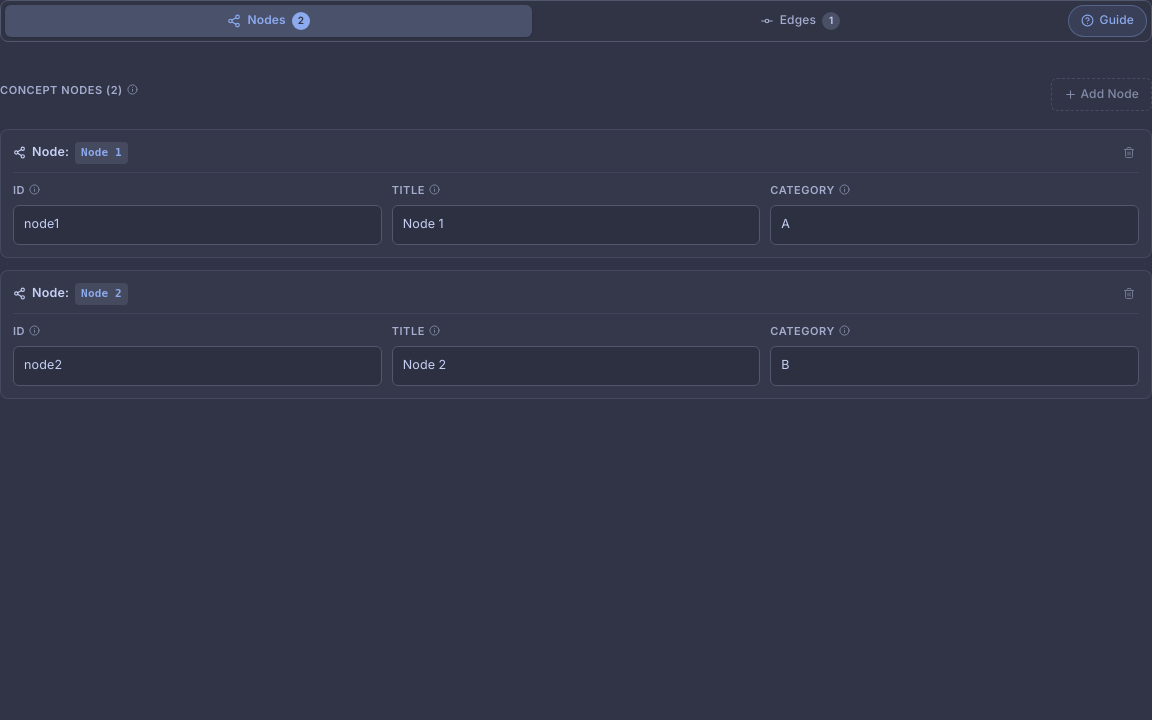
Test: VisualFormEditor › renders concept map form editor for concept-map type
expect the element with test id "concept-map-form-editor" is shown: met, box x1=0 y1=0 x2=1151 y2=398
expect the element with test id "cm-sub-tabs" is shown: met, box x1=0 y1=0 x2=1151 y2=42
Switch to Edges tab
Click the button with test id "cm-tab-edges" at {"x": 800, "y": 21}, box x1=536 y1=5 x2=1064 y2=36
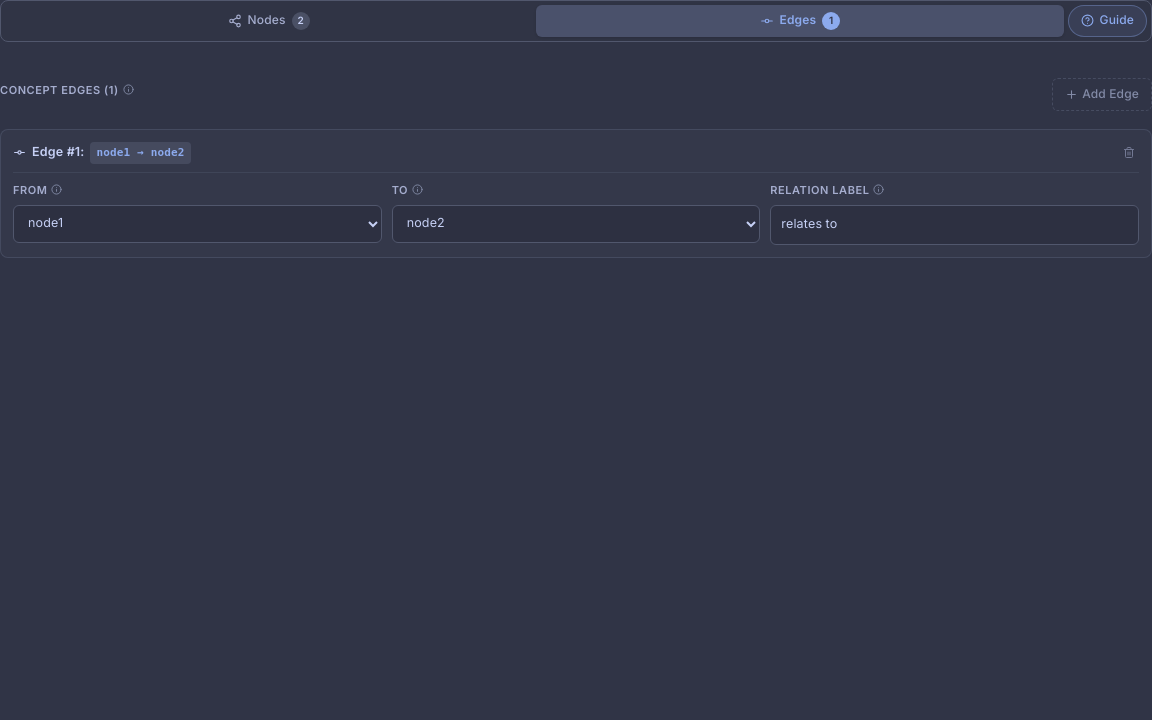
expect the element with test id "cm-edge-0" is shown: met, box x1=0 y1=129 x2=1151 y2=258
expect the button with test id "cm-add-edge" is shown: met, box x1=1052 y1=78 x2=1151 y2=111
Test guide button
Click the button with test id "cm-editor-help-btn" at {"x": 1107, "y": 21}, box x1=1068 y1=5 x2=1147 y2=36
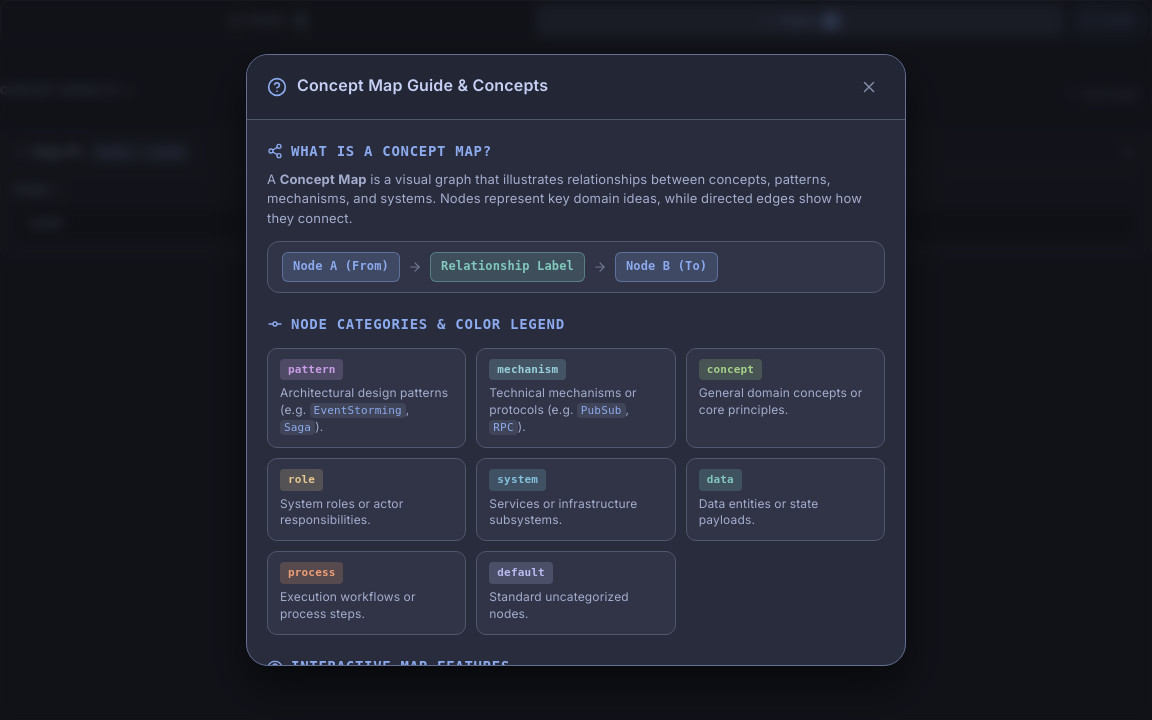
expect the dialog with test id "cm-help-modal" is shown: met, box x1=246 y1=54 x2=906 y2=666
